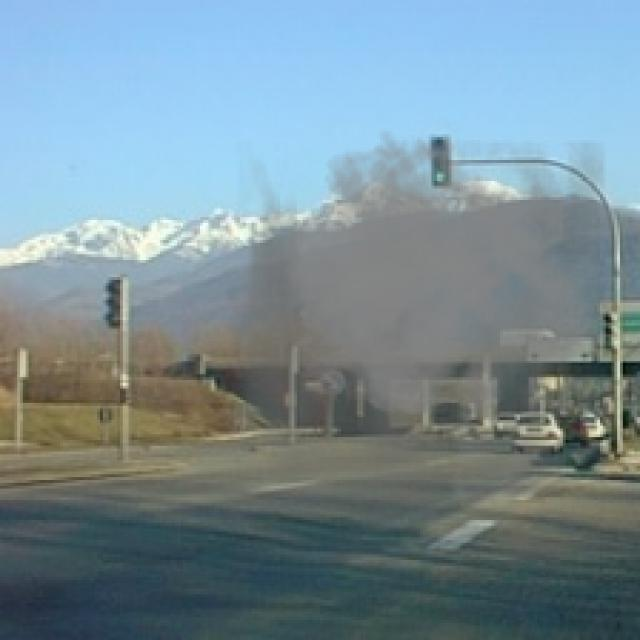smoke: (223, 129, 606, 517)
